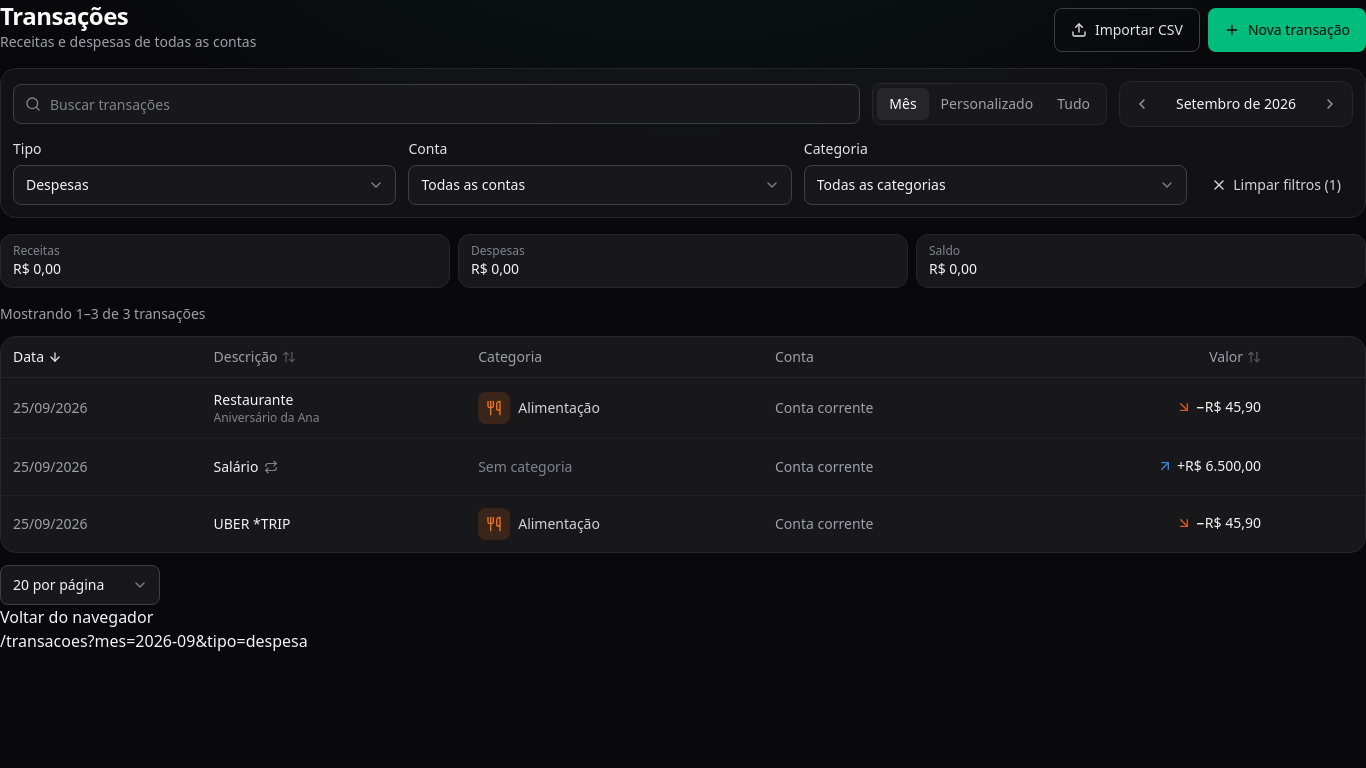
Test case: transaction detail drawer › closes with Esc, restores the URL and returns focus to the row
Click the button "Restaurante" at [253, 400], box x1=214 y1=390 x2=293 y2=410
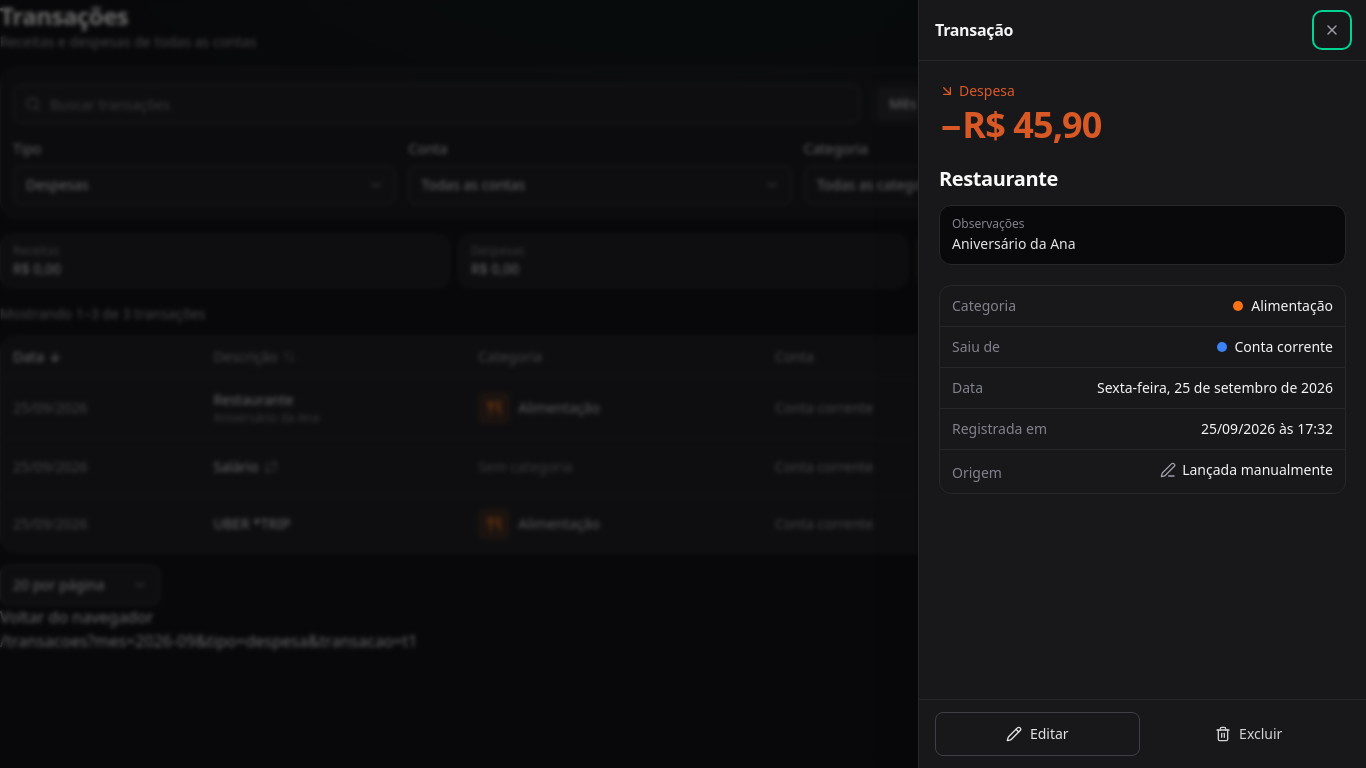
Expected: the dialog is shown, x1=918 y1=0 x2=1365 y2=767
Press Escape
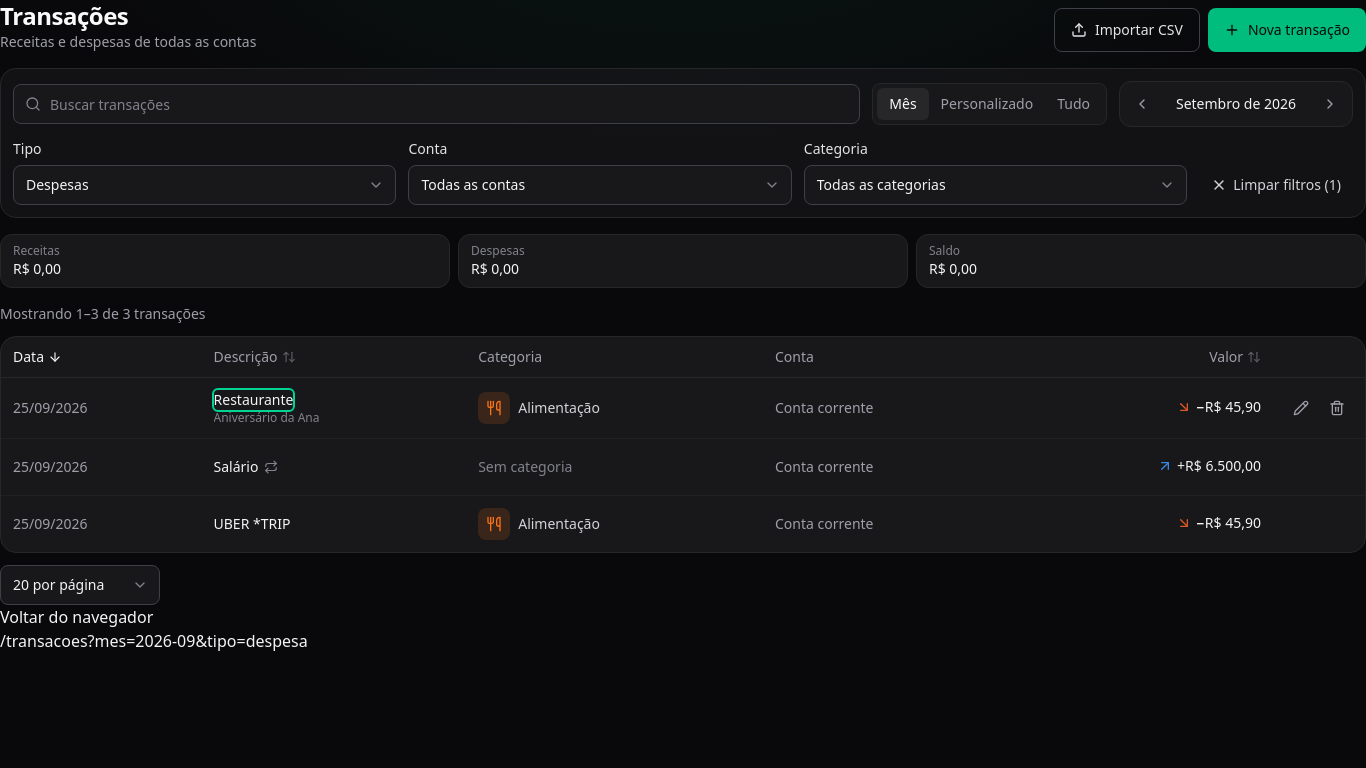
Expected: the dialog is gone
Expected: the text with test id "location" reads "/transacoes?mes=2026-09&tipo=despesa", x1=0 y1=630 x2=308 y2=652
